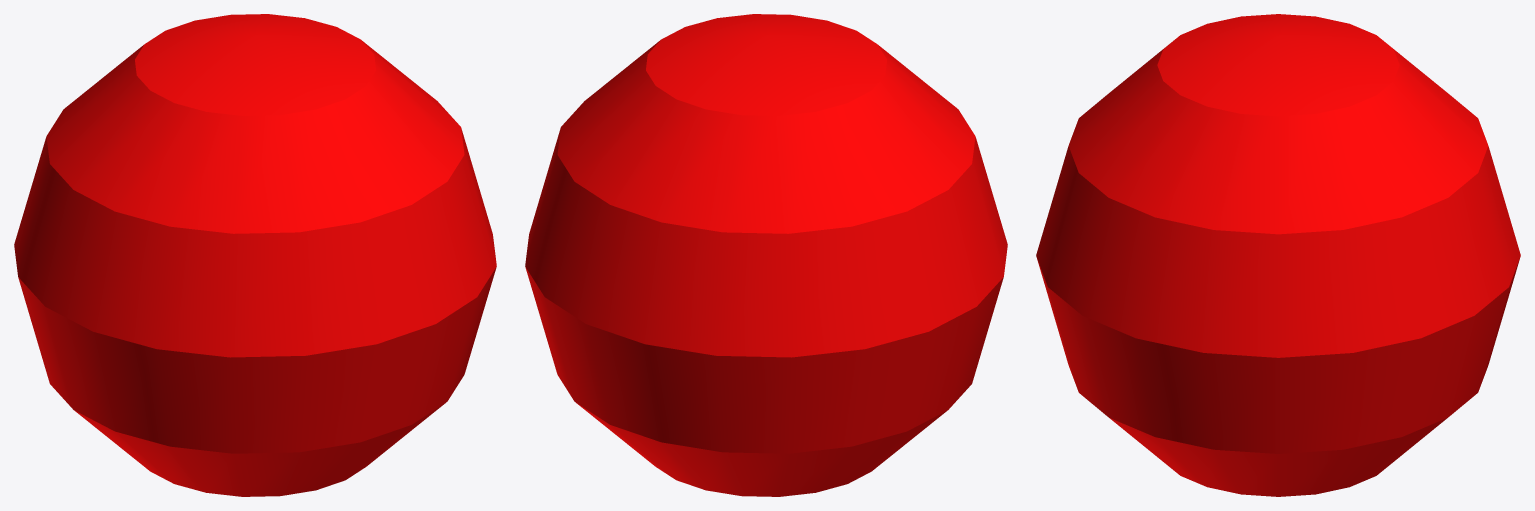
Rendered from Ball.fbx.
3 views of the same model, side by side, from view 1: azimuth 30°, elevation 25°; view 2: azimuth 150°, elevation 25°; view 3: azimuth 270°, elevation 25° (orthographic).
Visible parts, largest first — view 1: pSphere1; view 2: pSphere1; view 3: pSphere1.
Boxes of the visible parts, x1=… form: pSphere1: x1=14, y1=14, x2=496, y2=496; pSphere1: x1=525, y1=14, x2=1007, y2=496; pSphere1: x1=1036, y1=14, x2=1520, y2=496.
Size of the model in its own units: 2 by 2 by 2.
